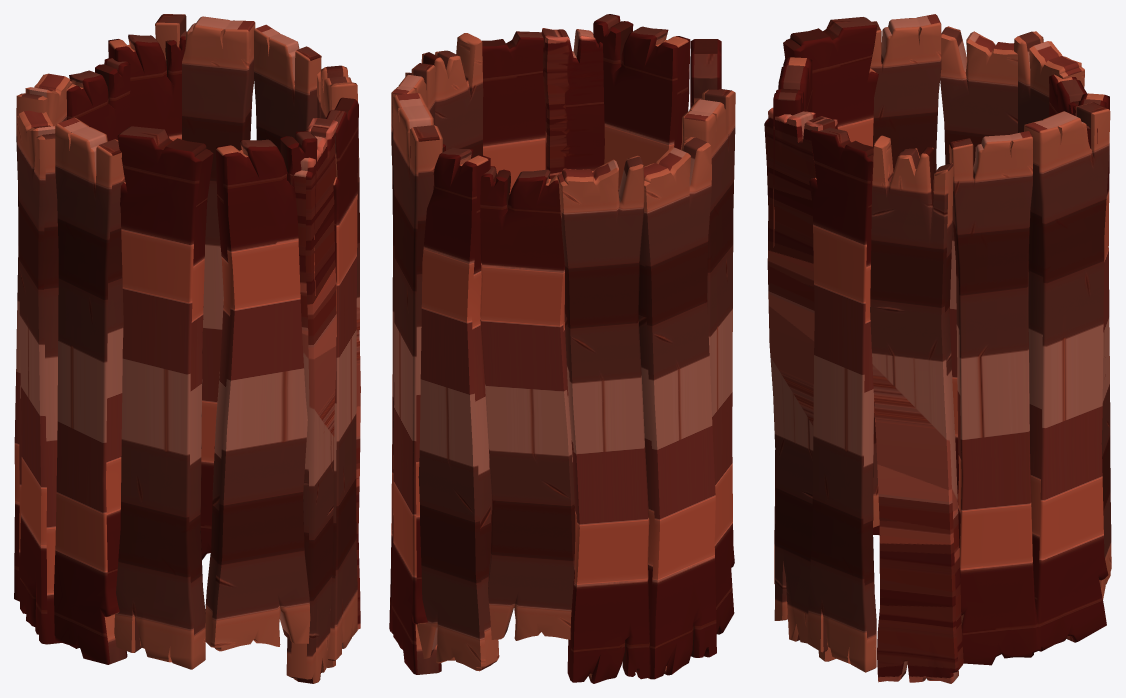
Rendered from Cuve.fbx.
The picture shows the model from 3 angles, left to right: view 1: azimuth 30°, elevation 25°; view 2: azimuth 150°, elevation 25°; view 3: azimuth 270°, elevation 25°; orthographic projection. The views are drawn at different scales.
Parts seen in each view (by area): view 1: SM_Planches_02__14_, SM_Planches_03__22_, SM_Planches_03__23_, SM_Planches_02__17_, SM_Planches_01__9_, SM_Planches_03__26_, SM_Planches_03__25_, SM_Planches_03__24_, SM_Planches_02__18_, SM_Planches_02__15_, SM_Planches_02__19_, SM_Planches_01__8_; view 2: SM_Planches_02__19_, SM_Planches_02__15_, SM_Planches_02__17_, SM_Planches_02__18_, SM_Planches_03__26_, SM_Planches_03__23_, SM_Planches_02__14_, SM_Planches_03__25_, SM_Planches_01__9_, SM_Planches_01__8_, SM_Planches_03__24_, SM_Planches_03__22_; view 3: SM_Planches_01__8_, SM_Planches_03__24_, SM_Planches_03__26_, SM_Planches_03__25_, SM_Planches_01__9_, SM_Planches_02__17_, SM_Planches_03__23_, SM_Planches_03__22_, SM_Planches_02__19_, SM_Planches_02__18_, SM_Planches_02__14_, SM_Planches_02__15_.
Part boxes in pixels (x1=…): SM_Planches_02__14_: x1=205, y1=131, x2=317, y2=651; SM_Planches_03__22_: x1=114, y1=126, x2=213, y2=669; SM_Planches_03__23_: x1=54, y1=117, x2=127, y2=664; SM_Planches_02__17_: x1=17, y1=110, x2=61, y2=644; SM_Planches_01__9_: x1=286, y1=118, x2=337, y2=683; SM_Planches_03__26_: x1=155, y1=14, x2=255, y2=559; SM_Planches_03__25_: x1=326, y1=97, x2=358, y2=660; SM_Planches_03__24_: x1=254, y1=24, x2=321, y2=152; SM_Planches_02__18_: x1=108, y1=31, x2=186, y2=140; SM_Planches_02__15_: x1=66, y1=57, x2=130, y2=141; SM_Planches_02__19_: x1=14, y1=73, x2=72, y2=601; SM_Planches_01__8_: x1=317, y1=65, x2=360, y2=629; SM_Planches_02__19_: x1=557, y1=155, x2=650, y2=683; SM_Planches_02__15_: x1=480, y1=166, x2=575, y2=640; SM_Planches_02__17_: x1=635, y1=137, x2=716, y2=679; SM_Planches_02__18_: x1=410, y1=144, x2=499, y2=671; SM_Planches_03__26_: x1=392, y1=93, x2=442, y2=674; SM_Planches_03__23_: x1=682, y1=89, x2=735, y2=634; SM_Planches_02__14_: x1=593, y1=14, x2=690, y2=191; SM_Planches_03__25_: x1=481, y1=31, x2=545, y2=194; SM_Planches_01__9_: x1=541, y1=28, x2=604, y2=179; SM_Planches_01__8_: x1=405, y1=33, x2=483, y2=158; SM_Planches_03__24_: x1=389, y1=63, x2=435, y2=633; SM_Planches_03__22_: x1=690, y1=39, x2=721, y2=107; SM_Planches_01__8_: x1=870, y1=135, x2=963, y2=683; SM_Planches_03__24_: x1=949, y1=131, x2=1041, y2=665; SM_Planches_03__26_: x1=1024, y1=102, x2=1110, y2=651; SM_Planches_03__25_: x1=807, y1=127, x2=876, y2=672; SM_Planches_01__9_: x1=764, y1=107, x2=837, y2=661; SM_Planches_02__17_: x1=940, y1=26, x2=1017, y2=504; SM_Planches_03__23_: x1=870, y1=14, x2=941, y2=535; SM_Planches_03__22_: x1=783, y1=17, x2=879, y2=527; SM_Planches_02__19_: x1=1014, y1=31, x2=1084, y2=132; SM_Planches_02__18_: x1=1078, y1=93, x2=1111, y2=599; SM_Planches_02__14_: x1=773, y1=57, x2=812, y2=583; SM_Planches_02__15_: x1=1049, y1=74, x2=1086, y2=116.
Size of the model in its own units: 1118 by 1969 by 1111.
